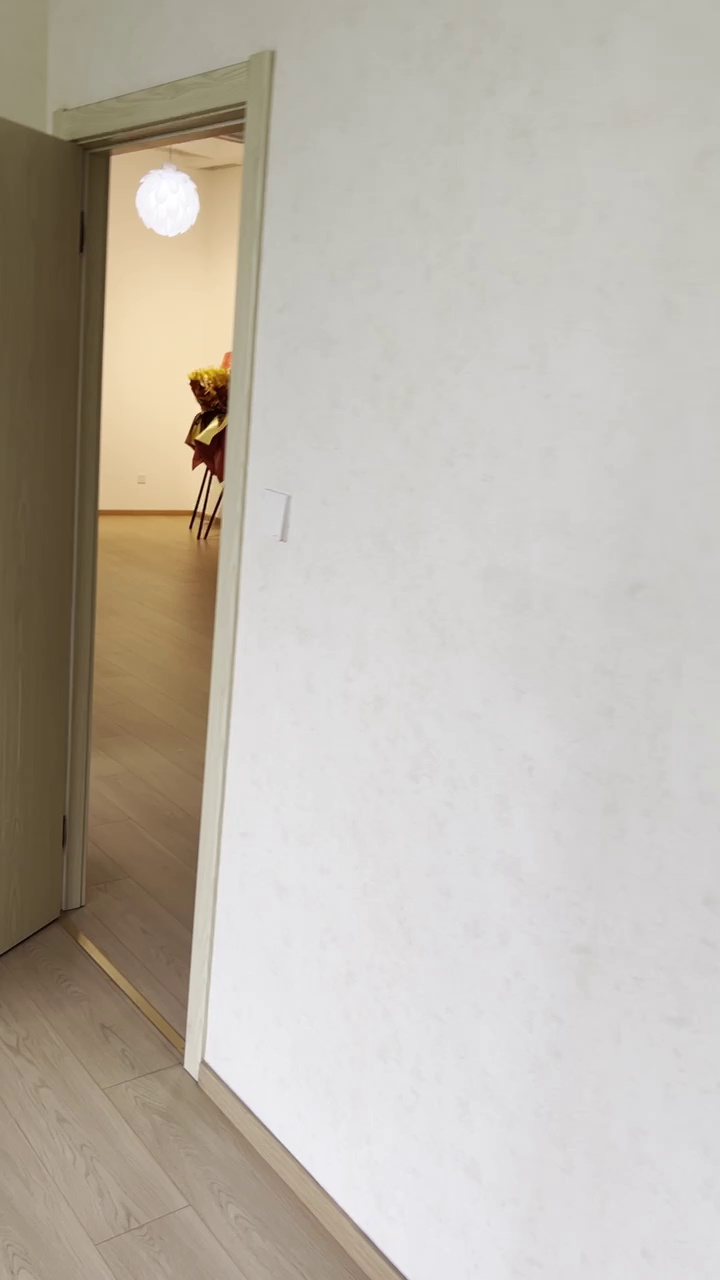button: (257, 488, 292, 543)
